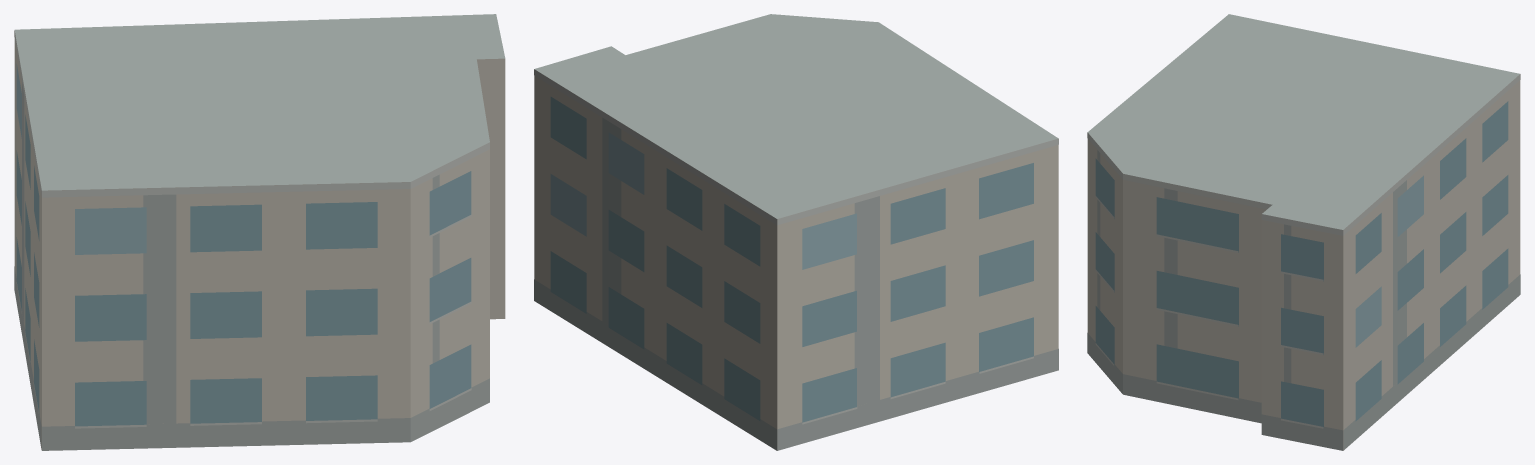
File: residential-c08a4335-68b6-4b80-b7af-4ec290a3e112.glb
3 views of the same model, side by side, from view 1: azimuth 30°, elevation 25°; view 2: azimuth 150°, elevation 25°; view 3: azimuth 270°, elevation 25° (orthographic). The views are drawn at different scales.
Parts seen in each view (by area): view 1: residential-c08a4335-68b6-4b80-b7af-4ec290a3e112.tmp; view 2: residential-c08a4335-68b6-4b80-b7af-4ec290a3e112.tmp; view 3: residential-c08a4335-68b6-4b80-b7af-4ec290a3e112.tmp.
Boxes of the visible parts, x1,y1,x2,y2 form: residential-c08a4335-68b6-4b80-b7af-4ec290a3e112.tmp: (14,14,505,450); residential-c08a4335-68b6-4b80-b7af-4ec290a3e112.tmp: (534,14,1058,450); residential-c08a4335-68b6-4b80-b7af-4ec290a3e112.tmp: (1087,14,1520,450).
Bounding box in the file's own units: 18.89 × 9 × 16.
